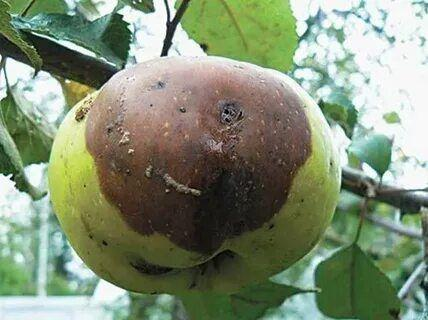Apple: (48, 54, 342, 292)
